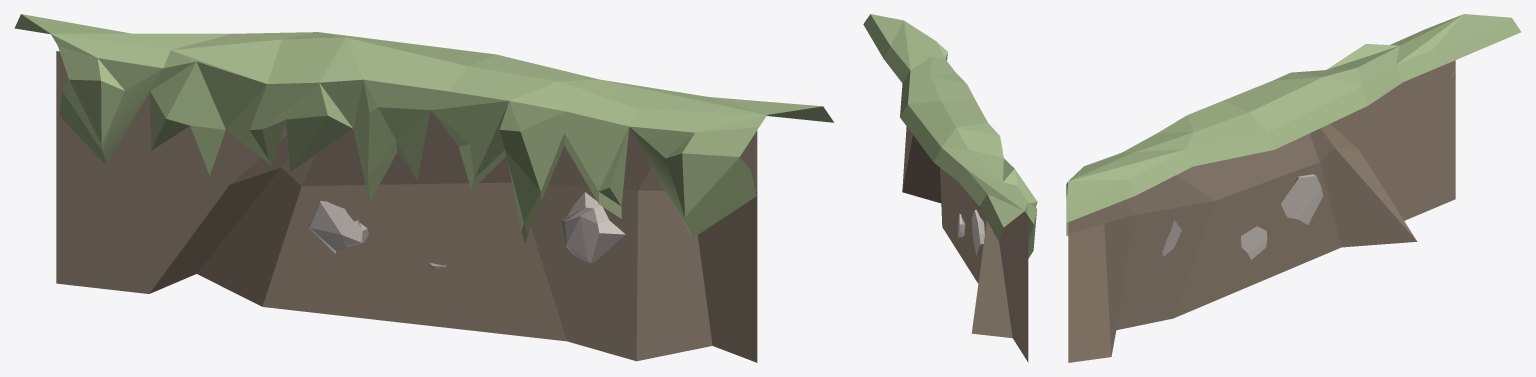
Rendered from ER_Terrain_1x1_GrassDiagonal_Halfsize_001_B.fbx.
3 renders of one model, left to right at view 1: azimuth 30°, elevation 25°; view 2: azimuth 150°, elevation 25°; view 3: azimuth 270°, elevation 25°, orthographic. The views are drawn at different scales.
Visible parts, largest first — view 1: ER_Terrain_1x1_GrassDiagonal_Halfsize_001_B; view 2: ER_Terrain_1x1_GrassDiagonal_Halfsize_001_B; view 3: ER_Terrain_1x1_GrassDiagonal_Halfsize_001_B.
Part boxes in pixels (x1,y1,x2,y2): ER_Terrain_1x1_GrassDiagonal_Halfsize_001_B: (14, 14, 834, 362); ER_Terrain_1x1_GrassDiagonal_Halfsize_001_B: (863, 14, 1037, 362); ER_Terrain_1x1_GrassDiagonal_Halfsize_001_B: (1066, 14, 1521, 362).
Bounding box in the file's own units: 1.17 × 0.5608 × 1.18.
